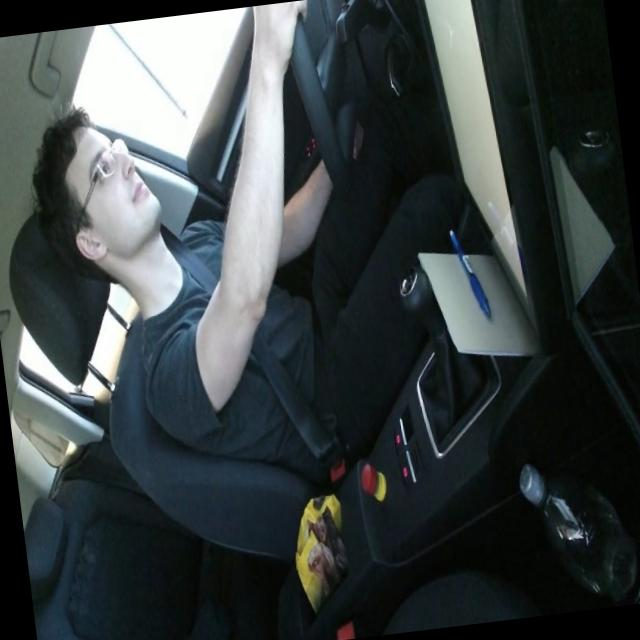pen: (446, 222, 491, 322)
